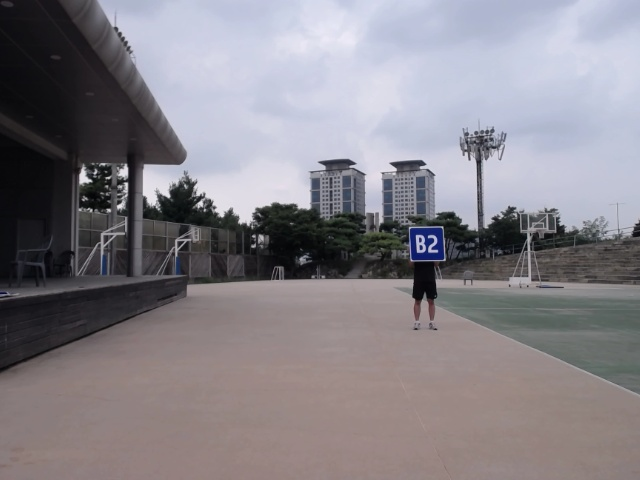delivery_b2: (408, 225, 446, 262)
